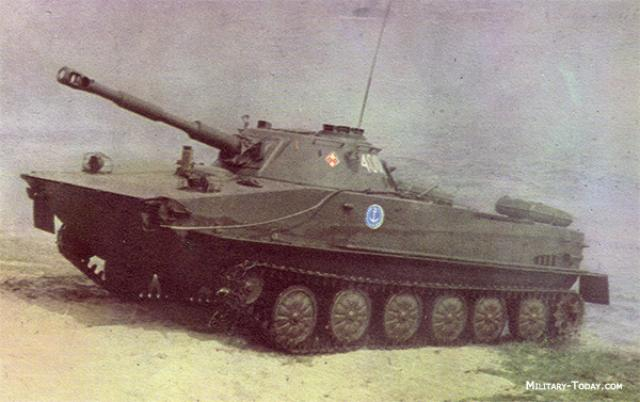tank: (25, 112, 607, 339)
